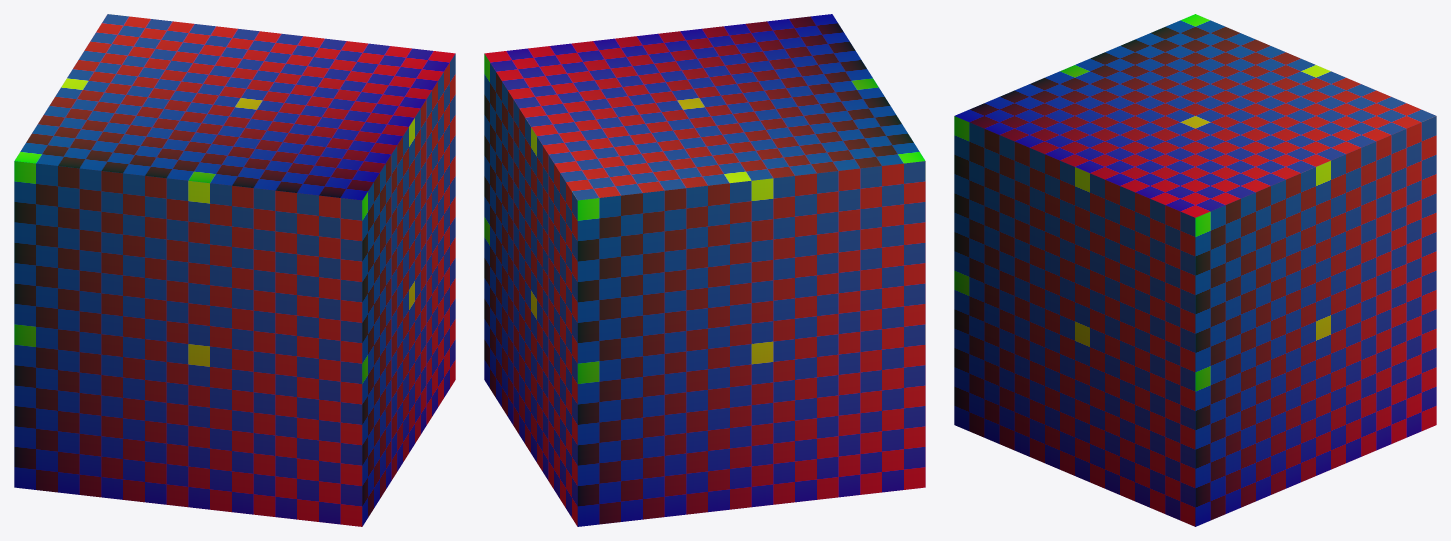
The model's file is cube_emb.glb.
The picture shows the model from 3 angles, left to right: view 1: azimuth 30°, elevation 25°; view 2: azimuth 150°, elevation 25°; view 3: azimuth 270°, elevation 25°; orthographic projection. The views are drawn at different scales.
Size of the model in its own units: 2.83 by 2 by 2.83.
1 material, 1 textured.
